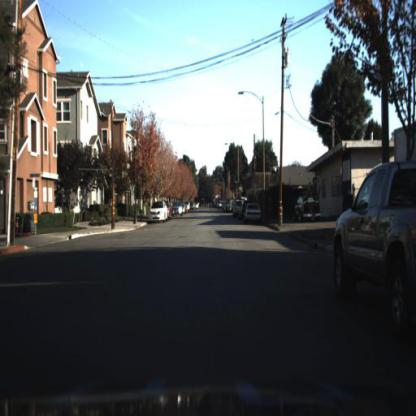car: (331, 160, 416, 332), (291, 188, 325, 226), (146, 196, 170, 225), (243, 202, 264, 227), (148, 201, 169, 224)
